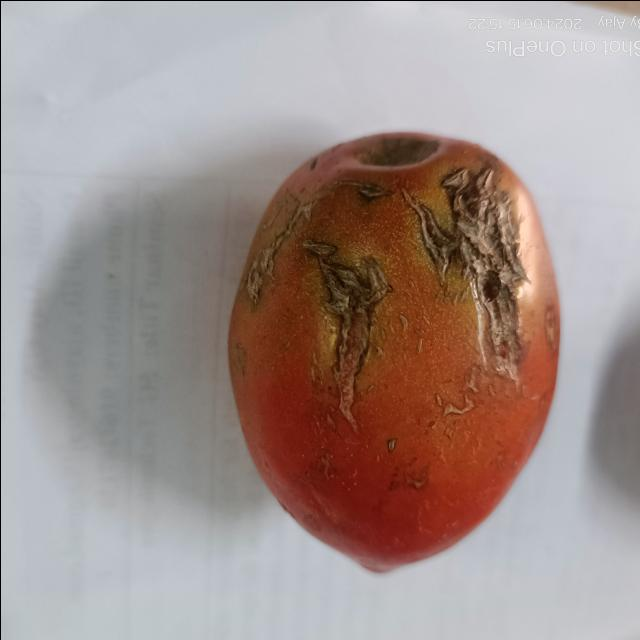tomato_cracking: (398, 157, 529, 373), (298, 230, 396, 443)
